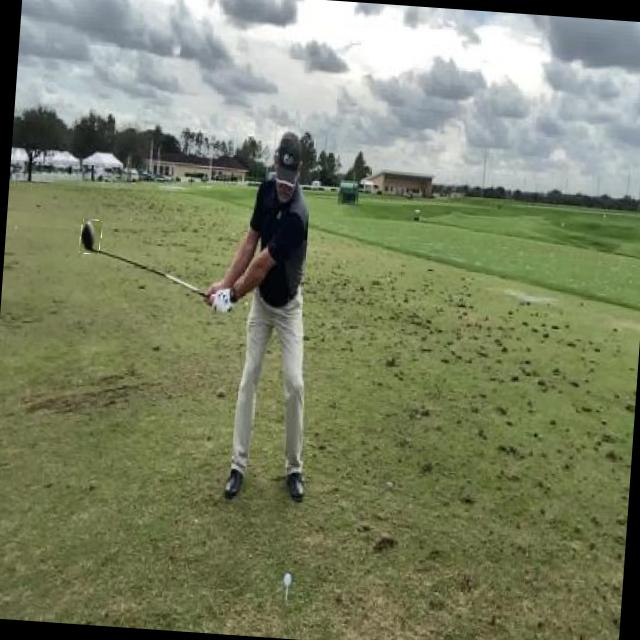club head: (80, 218, 102, 254)
